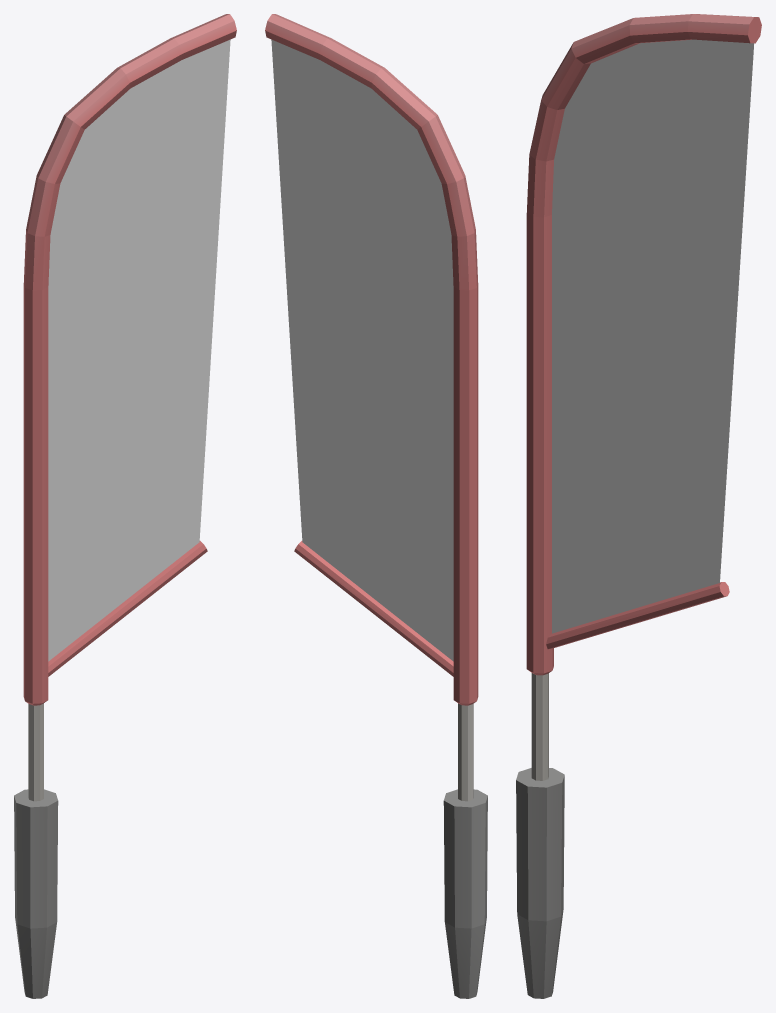
The model's file is LightningBanner.glb.
3 renders of one model, left to right at view 1: azimuth 30°, elevation 25°; view 2: azimuth 150°, elevation 25°; view 3: azimuth 330°, elevation 25°, orthographic. The views are drawn at different scales.
Parts seen in each view (by area): view 1: LightningBanner; view 2: LightningBanner; view 3: LightningBanner.
Part boxes in pixels (x1,y1,x2,y2): LightningBanner: (14,14,236,998); LightningBanner: (265,14,487,998); LightningBanner: (516,14,761,998).
Size of the model in its own units: 1.36 by 5.65 by 0.2509.
